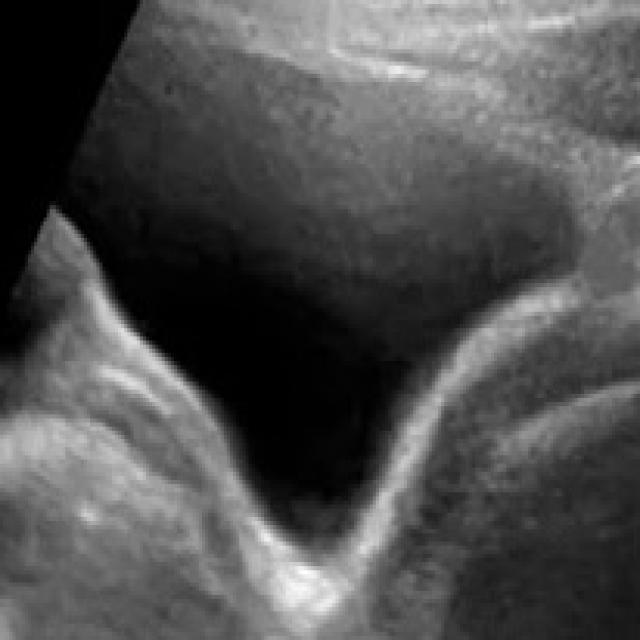bladder: (41, 10, 588, 604)
